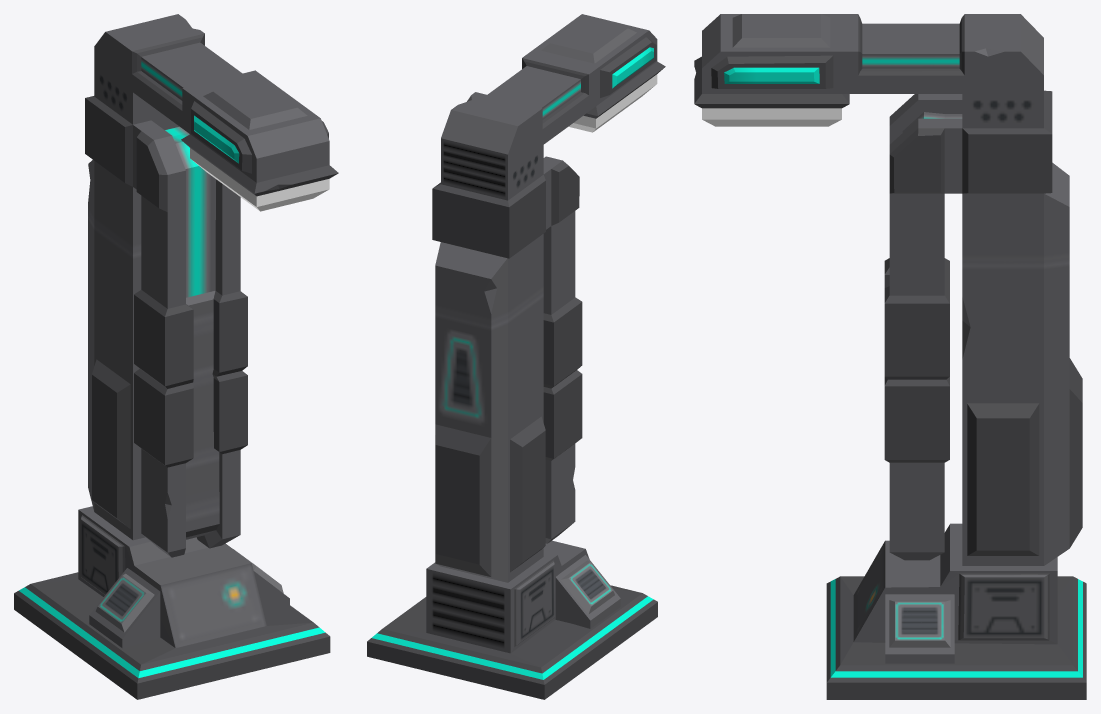
File: SM_Prop_Street_Light_Large_01.fbx
3 renders of one model, left to right at view 1: azimuth 30°, elevation 25°; view 2: azimuth 150°, elevation 25°; view 3: azimuth 270°, elevation 25°, orthographic. The views are drawn at different scales.
Parts seen in each view (by area): view 1: SM_Prop_Street_Light_Large_01; view 2: SM_Prop_Street_Light_Large_01; view 3: SM_Prop_Street_Light_Large_01.
Boxes of the visible parts, x1,y1,x2,y2 form: SM_Prop_Street_Light_Large_01: (14, 14, 338, 699); SM_Prop_Street_Light_Large_01: (367, 14, 665, 699); SM_Prop_Street_Light_Large_01: (694, 14, 1086, 699).
Bounding box in the file's own units: 102 × 300 × 171.
